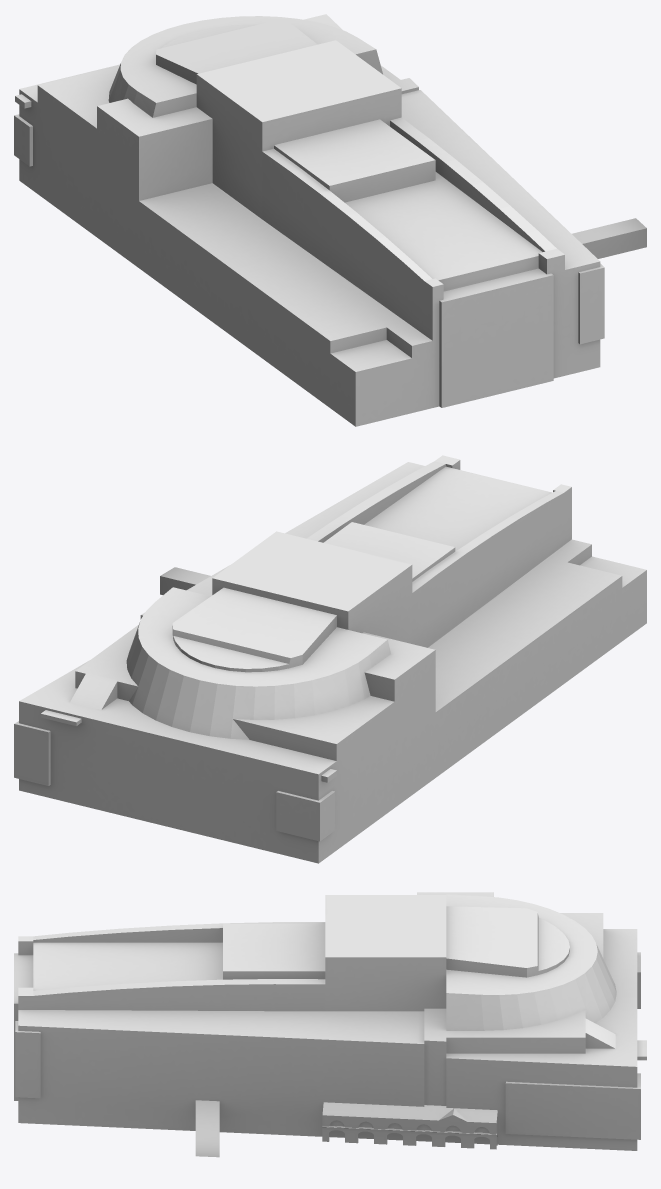
The model's file is mariinskiy2.dae.
3 renders of one model, top to bottom at view 1: azimuth 30°, elevation 25°; view 2: azimuth 150°, elevation 25°; view 3: azimuth 270°, elevation 25°, orthographic. The views are drawn at different scales.
Parts seen in each view (by area): view 1: mariinskiy2; view 2: mariinskiy2; view 3: mariinskiy2.
Part boxes in pixels (<box>): mariinskiy2: <box>14,14,646,426</box>; mariinskiy2: <box>14,455,646,863</box>; mariinskiy2: <box>14,892,646,1157</box>.
Size of the model in its own units: 0.1618 by 0.2432 by 0.0641.
1 material, 1 textured.
